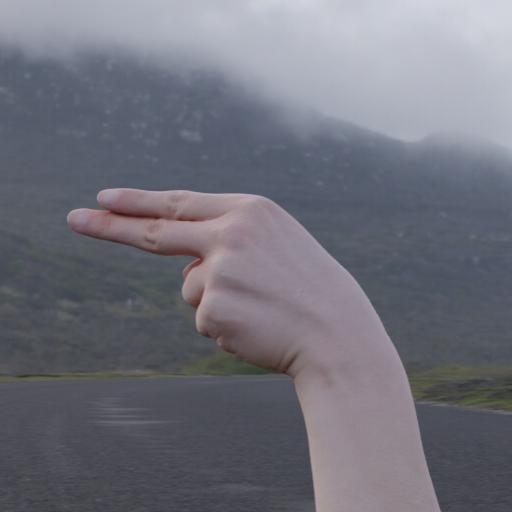H: (56, 177, 423, 410)
